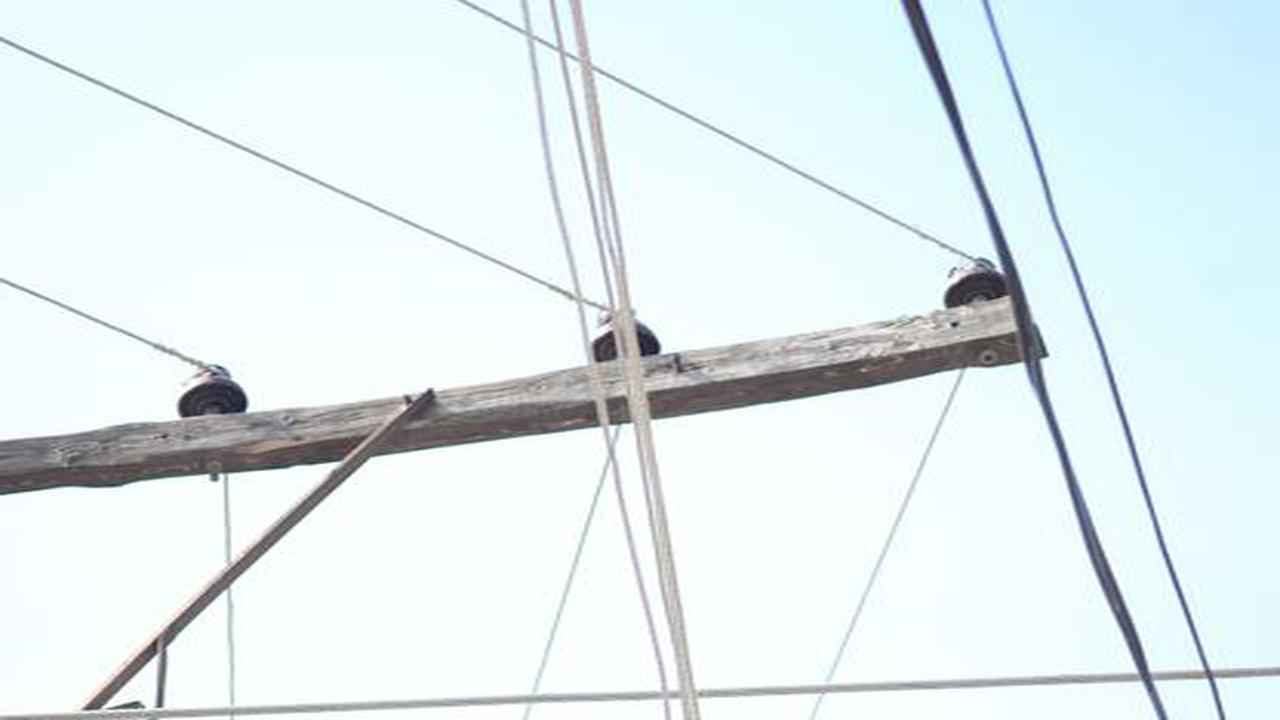insulator_pin: (173, 359, 252, 420), (586, 307, 666, 360), (940, 258, 1007, 303)
